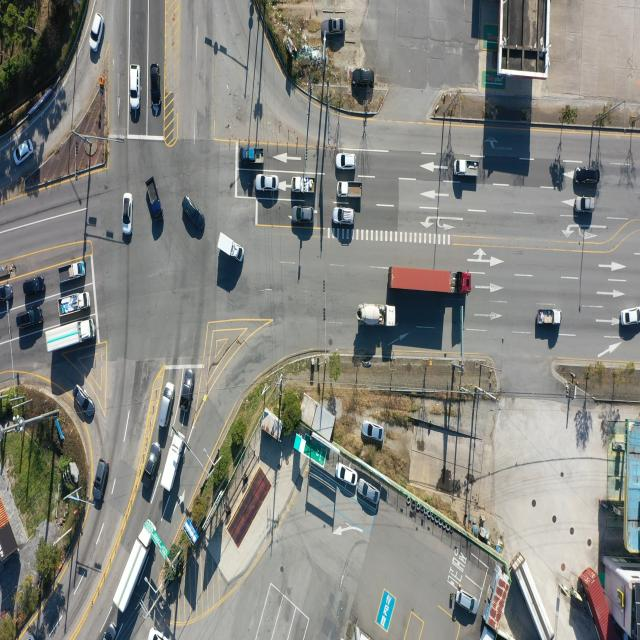car: (180, 196, 203, 235), (159, 380, 176, 428), (179, 360, 195, 410), (75, 385, 97, 418), (455, 589, 479, 616), (144, 442, 160, 482), (94, 460, 109, 502), (150, 64, 162, 116), (12, 138, 34, 165), (17, 308, 44, 330), (574, 167, 601, 188), (130, 65, 142, 111), (90, 13, 104, 51), (120, 192, 132, 234), (320, 17, 344, 38), (358, 481, 378, 506), (337, 463, 358, 485), (24, 276, 47, 296), (620, 306, 640, 328), (352, 68, 375, 86), (364, 422, 385, 440), (257, 175, 280, 191), (292, 206, 312, 224), (334, 208, 355, 225), (576, 197, 596, 214), (337, 153, 357, 169), (0, 284, 14, 304), (103, 622, 116, 640), (148, 626, 164, 640)
large_truck: (390, 267, 474, 295)
medium_truck: (116, 519, 157, 615), (518, 552, 557, 638), (46, 318, 97, 356), (159, 433, 184, 495), (356, 303, 396, 328)
small_truck: (60, 291, 92, 319), (218, 231, 244, 265), (145, 178, 163, 221), (57, 262, 87, 285), (452, 158, 478, 178), (292, 178, 315, 198), (338, 182, 363, 200), (538, 309, 563, 327), (240, 146, 264, 163), (482, 625, 499, 640)
